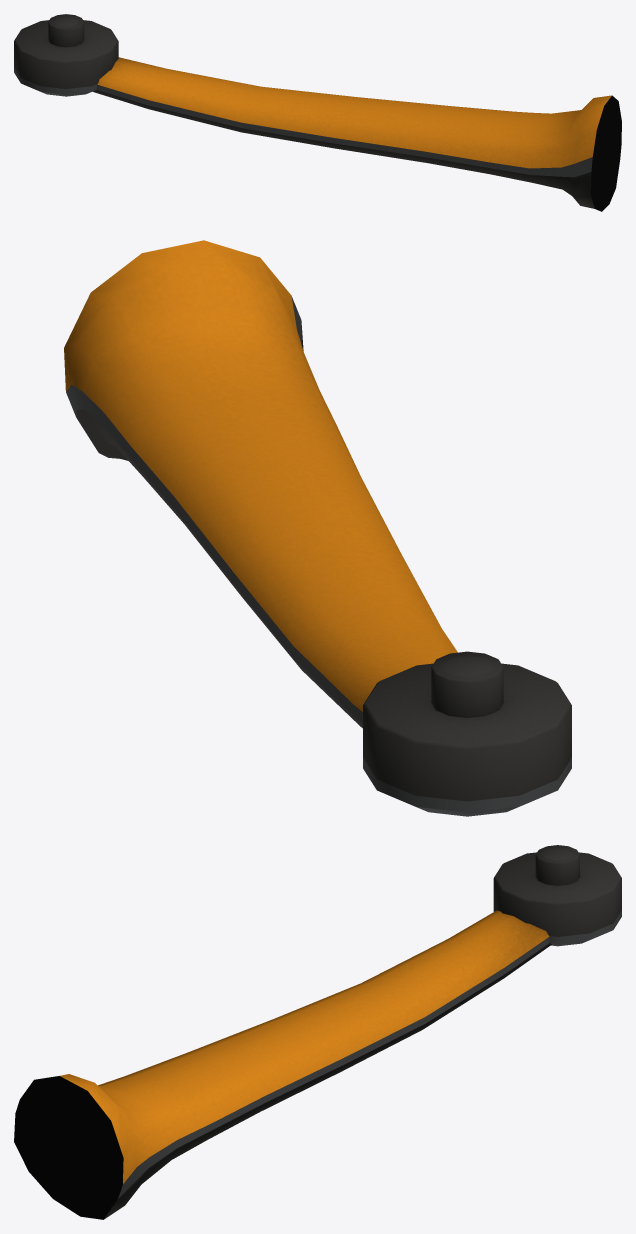
File: Salamandre_BrasArriereG.FBX
The picture shows the model from 3 angles, top to bottom: view 1: azimuth 30°, elevation 25°; view 2: azimuth 150°, elevation 25°; view 3: azimuth 270°, elevation 25°; orthographic projection. The views are drawn at different scales.
Visible parts, largest first — view 1: Salamandre_BrasArriereG; view 2: Salamandre_BrasArriereG; view 3: Salamandre_BrasArriereG.
Boxes of the visible parts, <box> form: Salamandre_BrasArriereG: <box>14,14,621,211</box>; Salamandre_BrasArriereG: <box>64,240,571,816</box>; Salamandre_BrasArriereG: <box>14,845,621,1219</box>.
Bounding box in the file's own units: 5.86 × 1.66 × 5.93.
